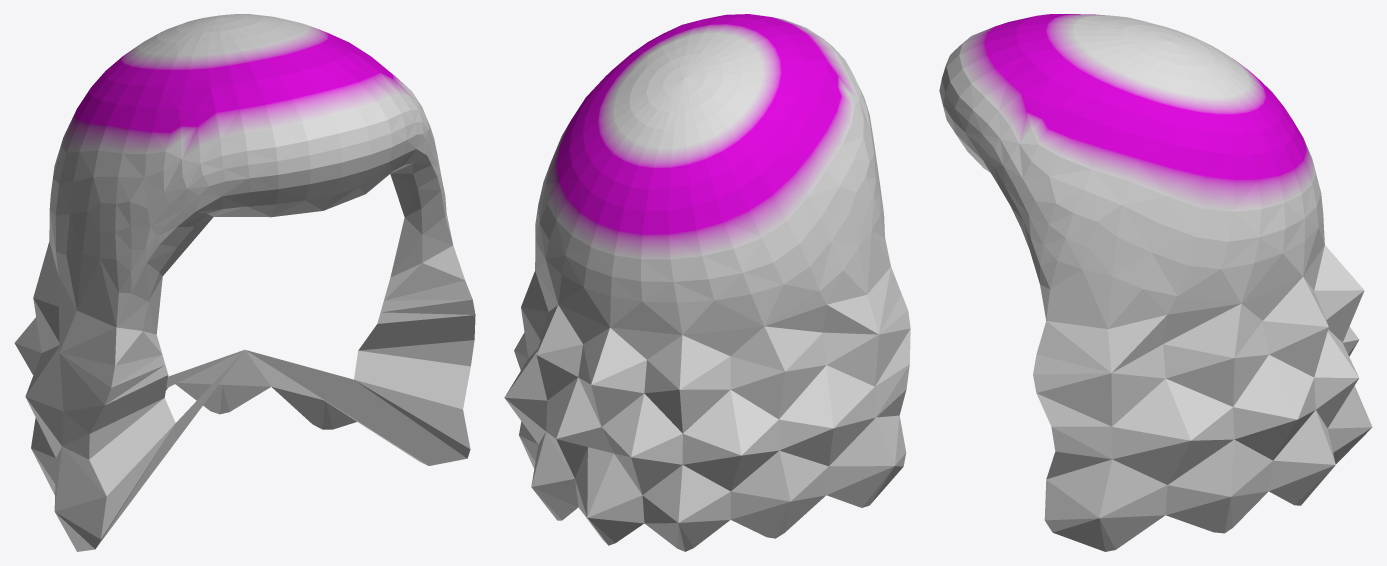
Rendered from hair_25.glb.
The picture shows the model from 3 angles, left to right: view 1: azimuth 30°, elevation 25°; view 2: azimuth 150°, elevation 25°; view 3: azimuth 270°, elevation 25°; orthographic projection. The views are drawn at different scales.
Visible parts, largest first — view 1: shape; view 2: shape; view 3: shape.
Boxes of the visible parts, left/top/right/bottom form: shape: left=14, top=14, right=475, bottom=551; shape: left=504, top=14, right=910, bottom=551; shape: left=939, top=14, right=1372, bottom=551.
Bounding box in the file's own units: 68.47 × 77.73 × 68.83.
